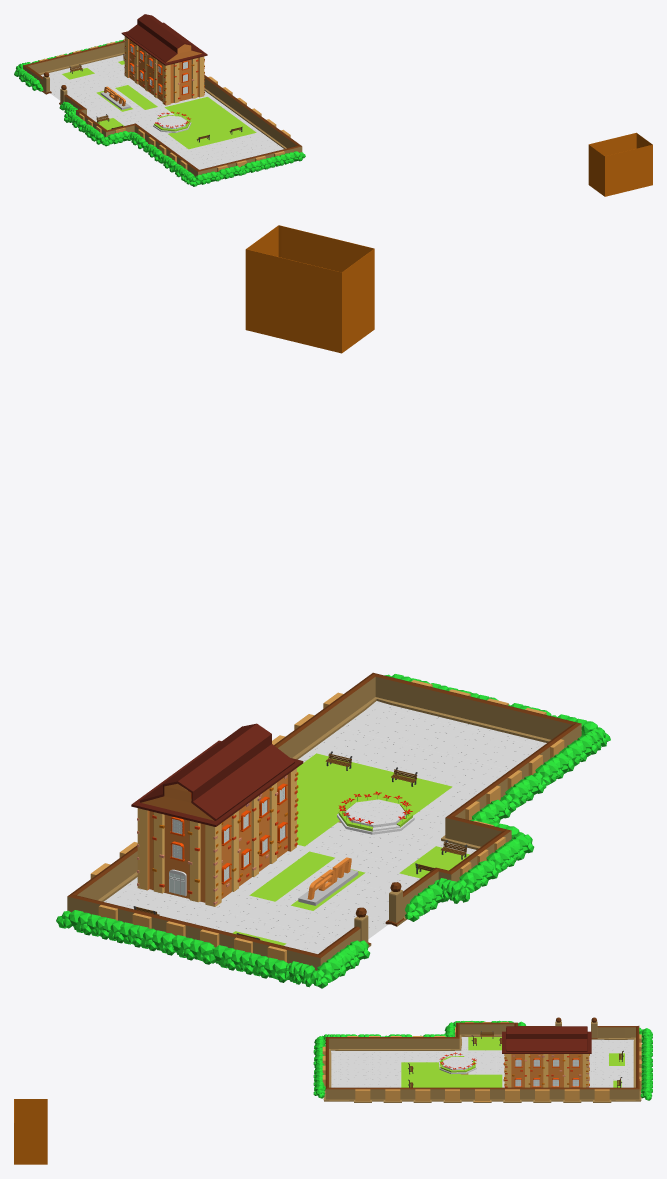
Rendered from fam.fbx.
The picture shows the model from 3 angles, top to bottom: view 1: azimuth 30°, elevation 25°; view 2: azimuth 150°, elevation 25°; view 3: azimuth 270°, elevation 25°; orthographic projection. The views are drawn at different scales.
Parts seen in each view (by area): view 1: Plane.002, Cube.018, Plane, Cube.019, Cylinder, Curve.002, Folha_5.021; view 2: Plane.002, Cube.018, Plane, Cube.019, Cylinder, Curve.002; view 3: Plane, Plane.002, Cube.018, Cube.019, Cylinder.
Part boxes in pixels (x1,y1,x2,y2): Plane.002: (41, 55, 283, 169); Cube.018: (121, 14, 207, 105); Plane: (23, 39, 302, 178); Cube.019: (588, 132, 652, 196); Cylinder: (153, 114, 191, 132); Curve.002: (100, 86, 130, 109); Folha_5.021: (189, 171, 220, 186); Plane.002: (104, 701, 546, 953); Cube.018: (131, 723, 303, 906); Plane: (67, 672, 581, 970); Cube.019: (245, 225, 374, 353); Cylinder: (337, 797, 414, 834); Curve.002: (298, 857, 358, 905); Plane: (322, 1022, 642, 1102); Plane.002: (331, 1037, 633, 1087); Cube.018: (502, 1026, 591, 1087); Cube.019: (14, 1099, 47, 1164); Cylinder: (439, 1056, 476, 1074).
Bounding box in the file's own units: 19914 × 4270 × 31371.
